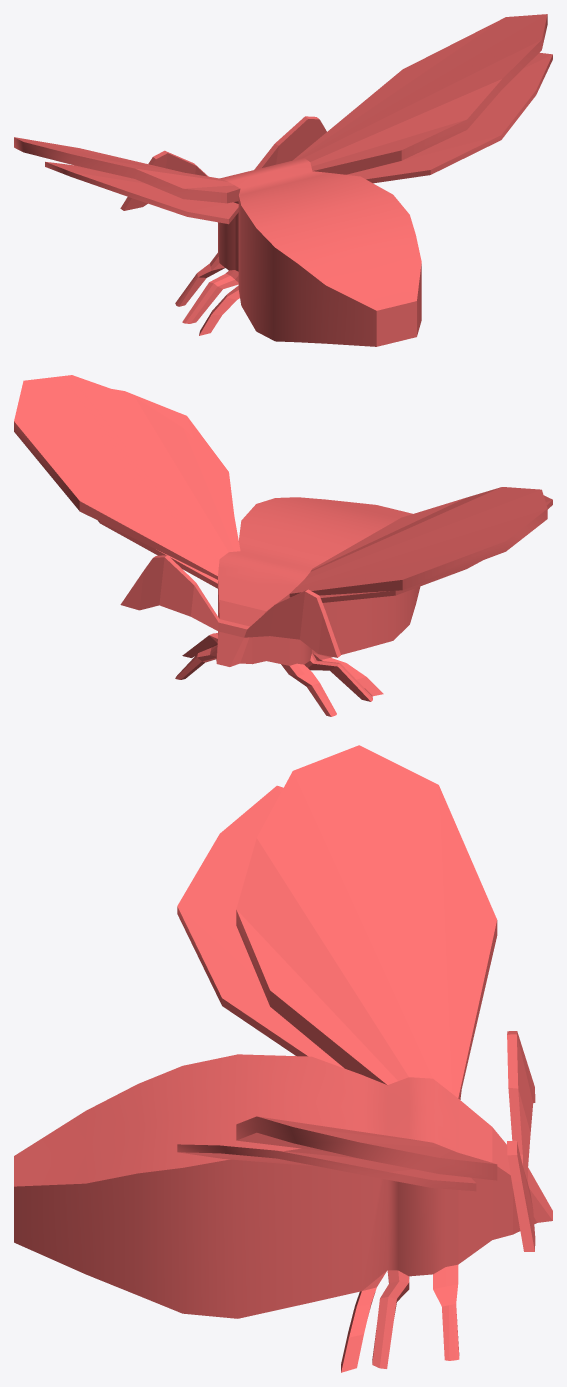
File: moth.FBX
3 renders of one model, top to bottom at view 1: azimuth 30°, elevation 25°; view 2: azimuth 150°, elevation 25°; view 3: azimuth 270°, elevation 25°, orthographic. The views are drawn at different scales.
Parts seen in each view (by area): view 1: Box004; view 2: Box004; view 3: Box004.
Boxes of the visible parts, left/top/right/bottom form: Box004: left=14, top=14, right=552, bottom=346; Box004: left=14, top=375, right=552, bottom=716; Box004: left=14, top=745, right=552, bottom=1372.
Size of the model in its own units: 101 by 42.74 by 58.16.
